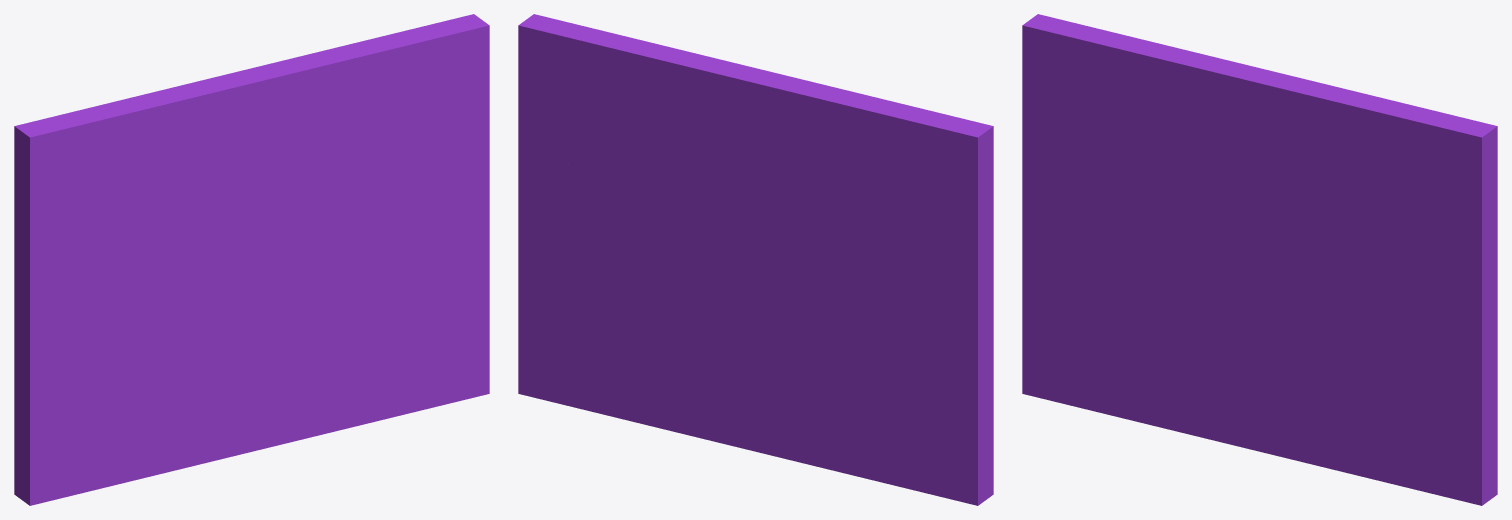
File: Barrier_201_chunks.fbx
3 views of the same model, side by side, from view 1: azimuth 30°, elevation 25°; view 2: azimuth 150°, elevation 25°; view 3: azimuth 330°, elevation 25° (orthographic).
Parts seen in each view (by area): view 1: Barrier_201_0, Barrier_201_2, Barrier_201_6, Barrier_201_5, Barrier_201_4, Barrier_201_3; view 2: Barrier_201_0, Barrier_201_2, Barrier_201_6, Barrier_201_5, Barrier_201_1, Barrier_201_4; view 3: Barrier_201_0, Barrier_201_2, Barrier_201_6, Barrier_201_5, Barrier_201_4, Barrier_201_3.
Part boxes in pixels (left/top/right/bottom): Barrier_201_0: left=14, top=118, right=264, bottom=505; Barrier_201_2: left=213, top=133, right=489, bottom=461; Barrier_201_6: left=46, top=55, right=324, bottom=225; Barrier_201_5: left=306, top=14, right=489, bottom=193; Barrier_201_4: left=214, top=172, right=383, bottom=261; Barrier_201_3: left=292, top=63, right=363, bottom=182; Barrier_201_0: left=796, top=115, right=993, bottom=505; Barrier_201_2: left=518, top=136, right=797, bottom=461; Barrier_201_6: left=686, top=54, right=946, bottom=233; Barrier_201_5: left=518, top=14, right=700, bottom=199; Barrier_201_1: left=733, top=239, right=816, bottom=466; Barrier_201_4: left=631, top=163, right=802, bottom=258; Barrier_201_0: left=1022, top=14, right=1256, bottom=438; Barrier_201_2: left=1205, top=237, right=1497, bottom=505; Barrier_201_6: left=1069, top=21, right=1328, bottom=202; Barrier_201_5: left=1321, top=85, right=1497, bottom=253; Barrier_201_4: left=1207, top=188, right=1375, bottom=263; Barrier_201_3: left=1284, top=96, right=1356, bottom=233.
Bounding box in the file's own units: 376 × 288 × 22.1.
